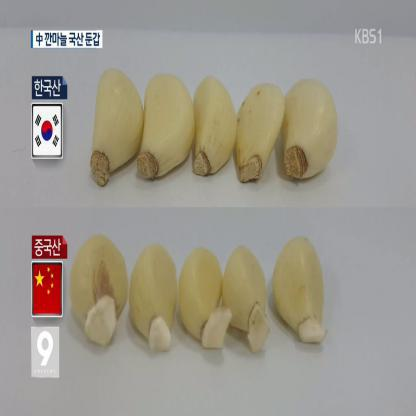garlic: (88, 67, 140, 184), (284, 76, 341, 178), (276, 242, 327, 353), (72, 236, 130, 332), (145, 69, 192, 186), (230, 242, 274, 357), (236, 76, 286, 174), (131, 240, 175, 351), (196, 75, 236, 176), (180, 250, 223, 332)
